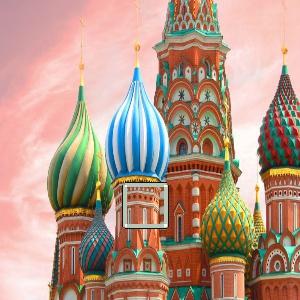square: (120, 180, 170, 230)
